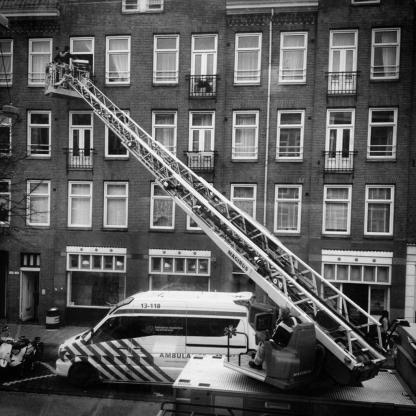ambulance: (59, 279, 270, 404)
